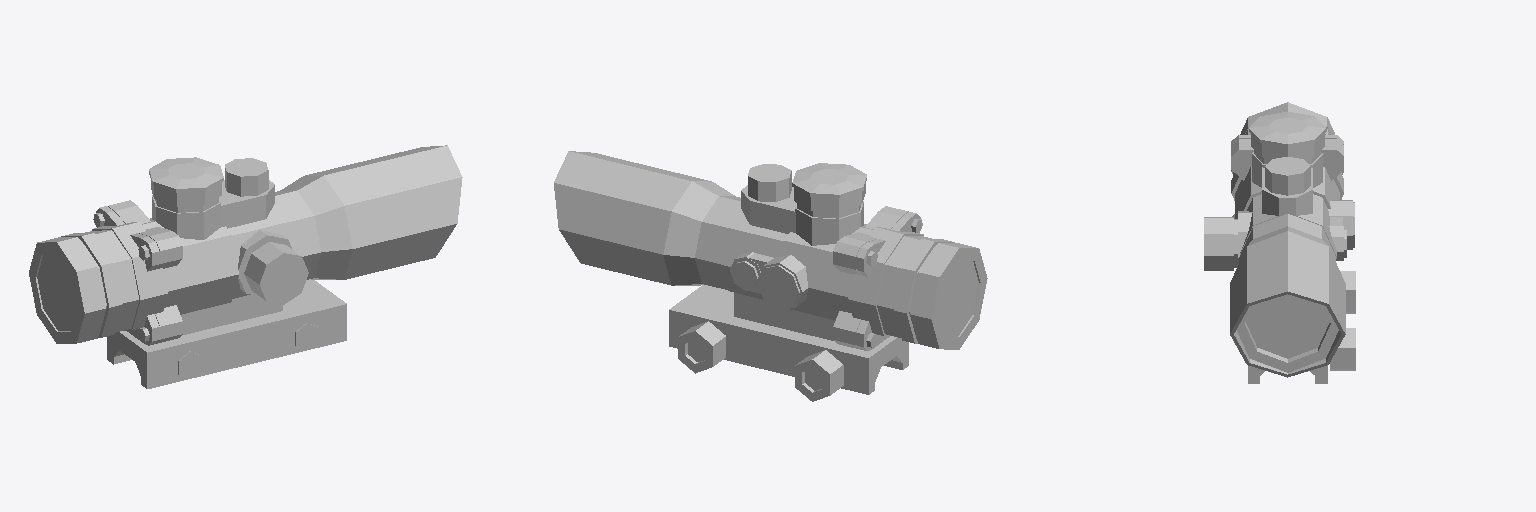
The model's file is scope_acog.obj.
The picture shows the model from 3 angles: view 1: azimuth 30°, elevation 25°; view 2: azimuth 150°, elevation 25°; view 3: azimuth 270°, elevation 25°; orthographic projection.
Visible parts, largest first — view 1: attachmentModel, overlayModel; view 2: attachmentModel, overlayModel; view 3: attachmentModel.
Part boxes in pixels (left/top/right/bottom): attachmentModel: left=29, top=145, right=462, bottom=388; overlayModel: left=37, top=255, right=77, bottom=330; attachmentModel: left=554, top=151, right=987, bottom=401; overlayModel: left=938, top=260, right=978, bottom=336; attachmentModel: left=1204, top=102, right=1355, bottom=383.
Bounding box in the file's own units: 4.09 × 1.96 × 1.39.